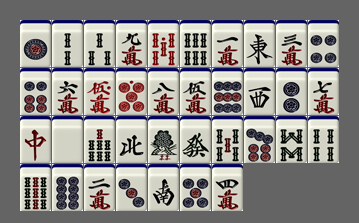0m: (84, 68, 115, 115)
0p: (116, 68, 147, 115)
0s: (148, 20, 179, 67)
1m: (212, 20, 243, 67)
1p: (20, 20, 51, 67)
1s: (148, 116, 179, 163)
1z: (244, 20, 275, 67)
2m: (84, 164, 115, 211)
2p: (276, 68, 307, 115)
2s: (52, 20, 83, 67)
2z: (148, 164, 179, 211)
3m: (276, 20, 307, 67)
3p: (116, 164, 147, 211)
3s: (84, 20, 115, 67)
3z: (244, 68, 275, 115)
4m: (212, 164, 243, 211)
4p: (308, 20, 339, 67)
4s: (308, 116, 339, 163)
4z: (116, 116, 147, 163)
5m: (180, 68, 211, 115)
5p: (180, 164, 211, 211)
5s: (212, 116, 243, 163)
5z: (52, 116, 83, 163)
6m: (52, 68, 83, 115)
6p: (20, 68, 51, 115)
6s: (180, 20, 211, 67)
6z: (180, 116, 211, 163)
7m: (308, 68, 339, 115)
7p: (244, 116, 275, 163)
7s: (84, 116, 115, 163)
7z: (20, 116, 51, 163)
8m: (148, 68, 179, 115)
8p: (52, 164, 83, 211)
8s: (276, 116, 307, 163)
9m: (116, 20, 147, 67)
9p: (212, 68, 243, 115)
9s: (20, 164, 51, 211)
